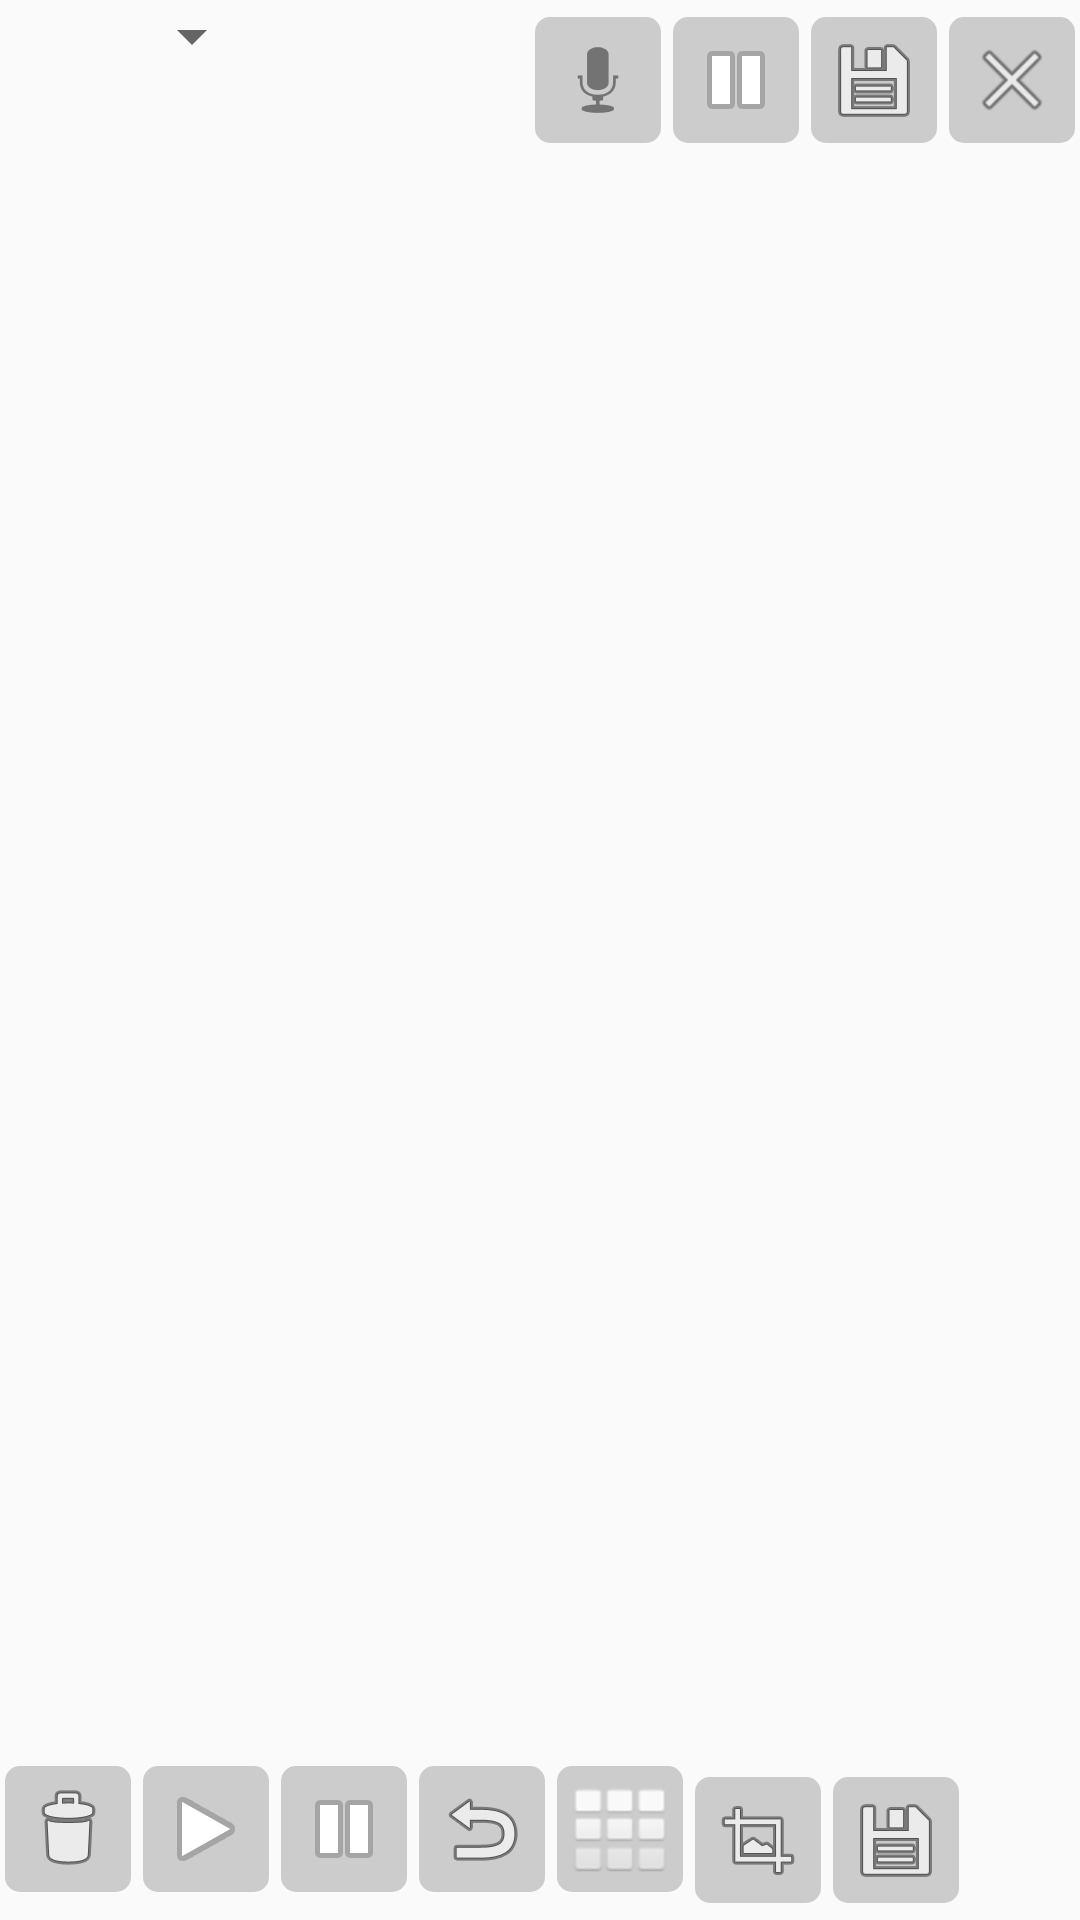

Screen size 1080*1920. Icon name, then its box in pixels as (x1,y1,x2,y2):
close clear cancel: (949,17,1075,143)
crop: (695,1777,821,1903)
delete: (5,1766,131,1892)
dialer: (557,1766,683,1892)
pause: (673,17,799,143), (281,1766,407,1892)
play: (143,1766,269,1892)
revert: (419,1766,545,1892)
save: (811,17,937,143), (833,1777,959,1903)
speak now: (535,17,661,143)
